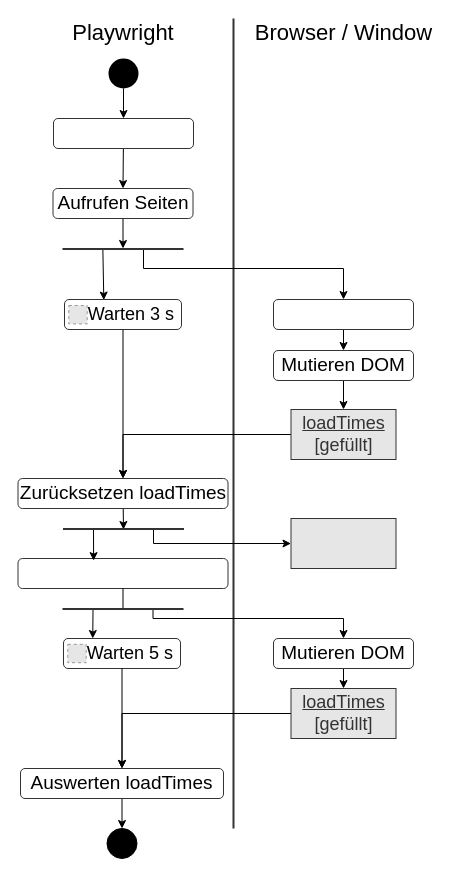
Some shapes in this 452 by 876 pixel diagram are drawn without their labels. Grey dashed boxes stand in for pictures. Here are the shapes that lost their labels. From the top down, the centre of each, then its label:
At (x=123, y=133): "Injecten Skript".
At (x=343, y=314): "Laden Seite".
At (x=343, y=543): "loadTimes [leer]".
At (x=122, y=573): "Ausführen Interaktion".
